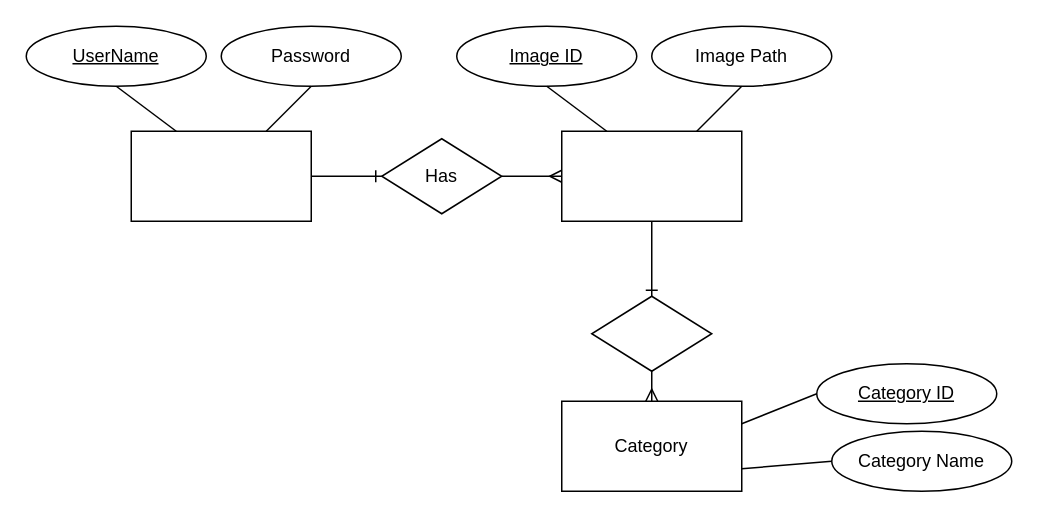
Image size: 1038x518. Some labels were removed from this diagram. Here are the shapes that lost their labels. From the top down, the box of each, then its label:
(130, 130, 311, 221): User
(560, 130, 742, 221): Image
(590, 295, 712, 371): is
